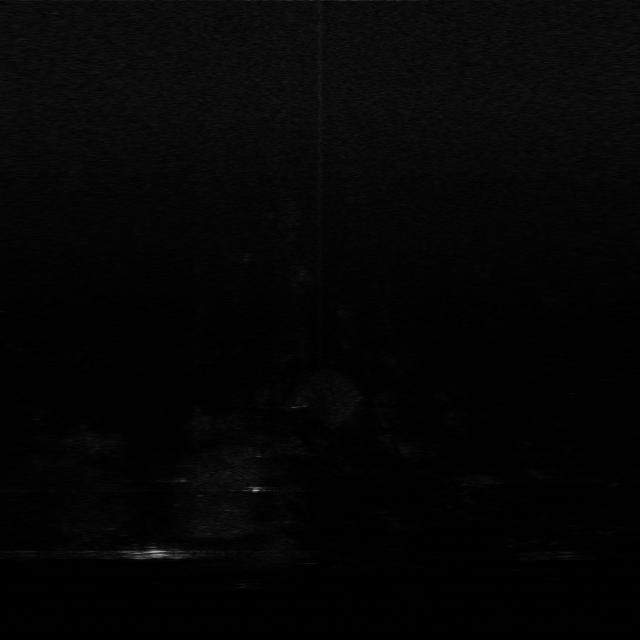rov: (134, 541, 174, 563)
